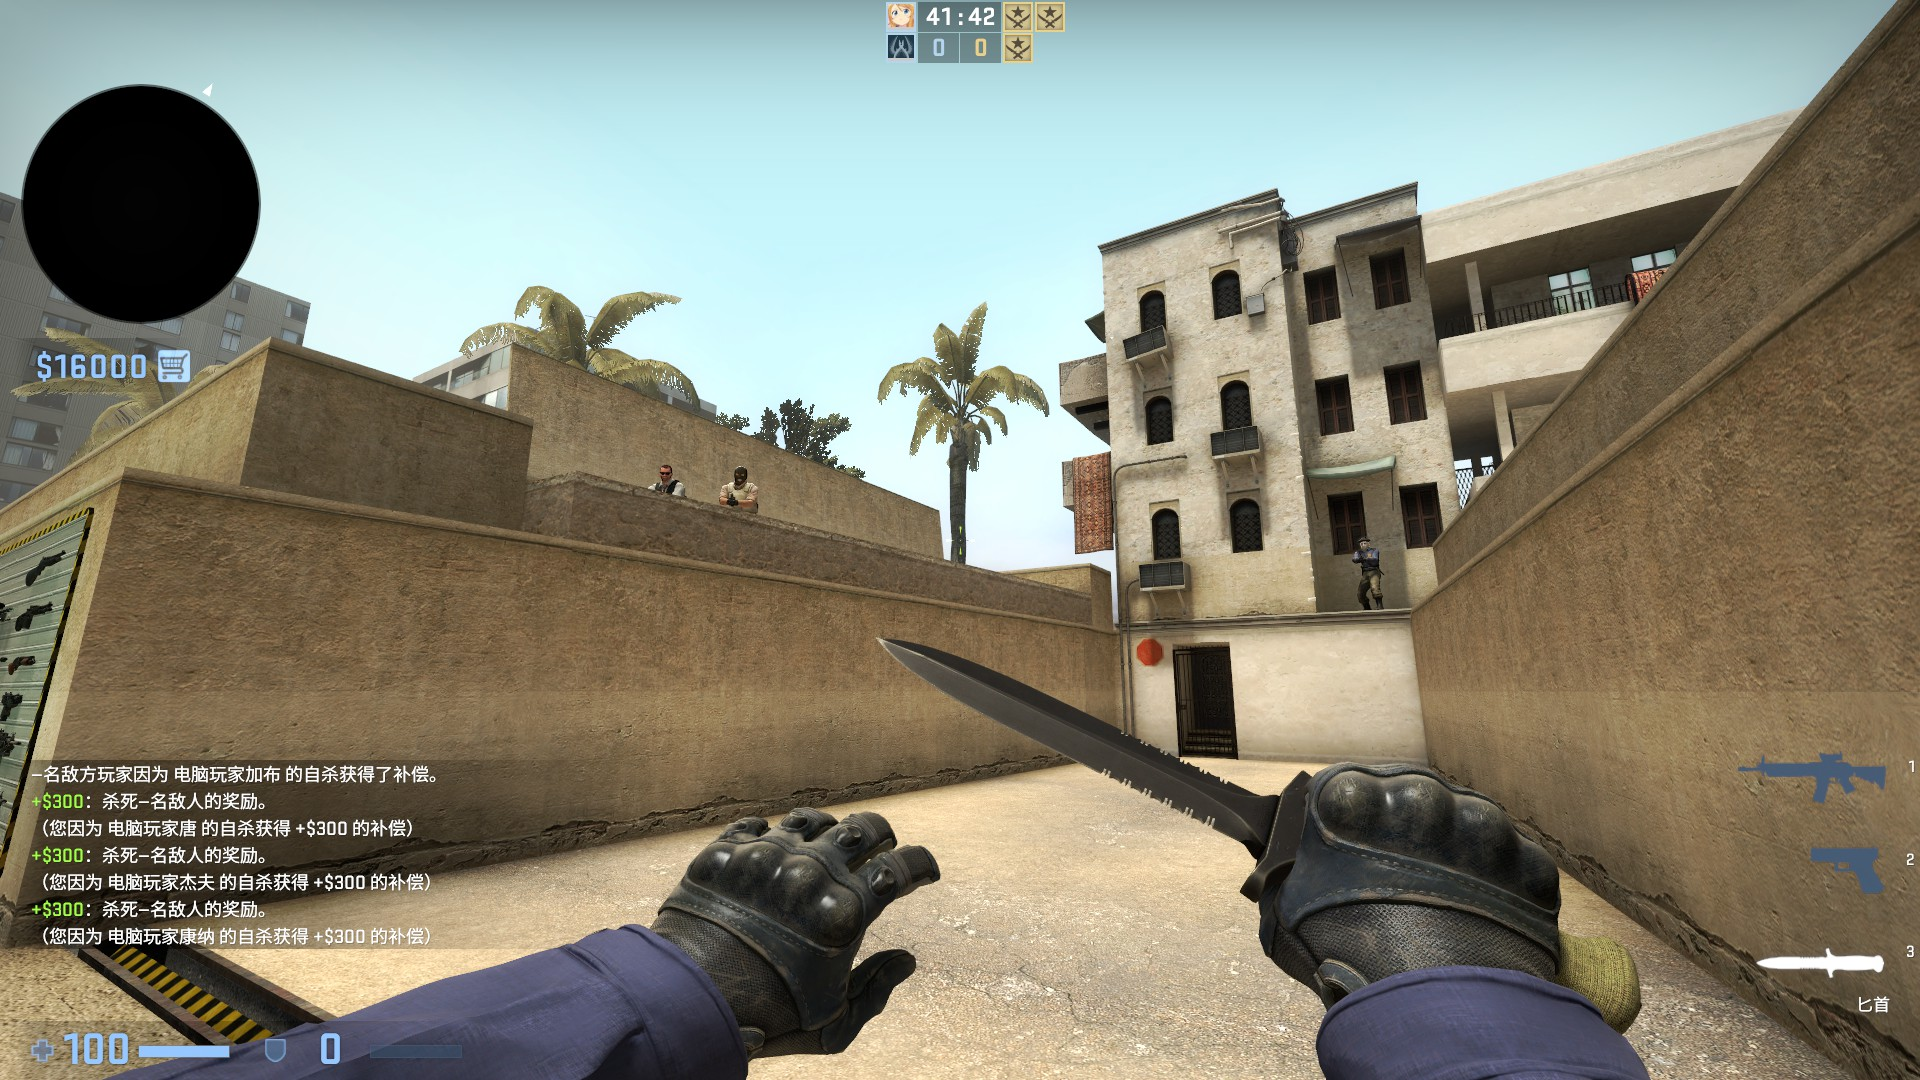head: (729, 464, 748, 489), (656, 463, 674, 485), (1354, 534, 1370, 552)
